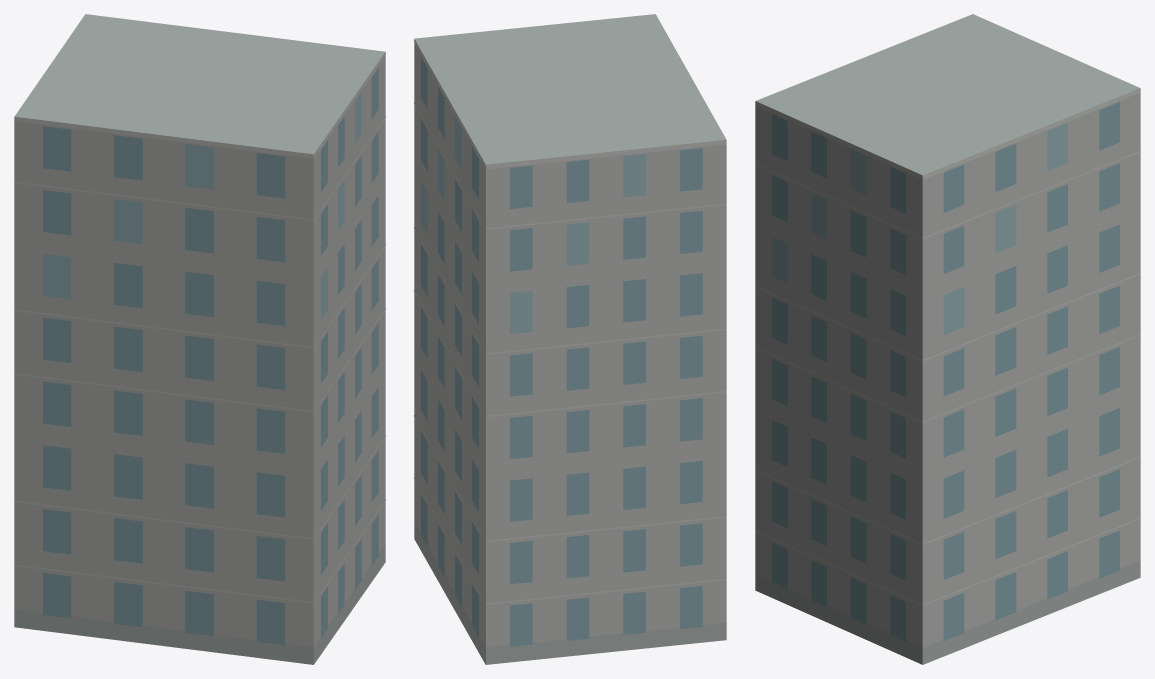
The model's file is survey-upis-32830023.glb.
3 renders of one model, left to right at view 1: azimuth 30°, elevation 25°; view 2: azimuth 150°, elevation 25°; view 3: azimuth 270°, elevation 25°, orthographic. The views are drawn at different scales.
Visible parts, largest first — view 1: survey-upis-32830023.tmp; view 2: survey-upis-32830023.tmp; view 3: survey-upis-32830023.tmp.
Boxes of the visible parts, <box> form: survey-upis-32830023.tmp: <box>14,14,385,664</box>; survey-upis-32830023.tmp: <box>414,14,726,664</box>; survey-upis-32830023.tmp: <box>755,14,1140,664</box>.
Bounding box in the file's own units: 18.83 × 26.6 × 18.99.
